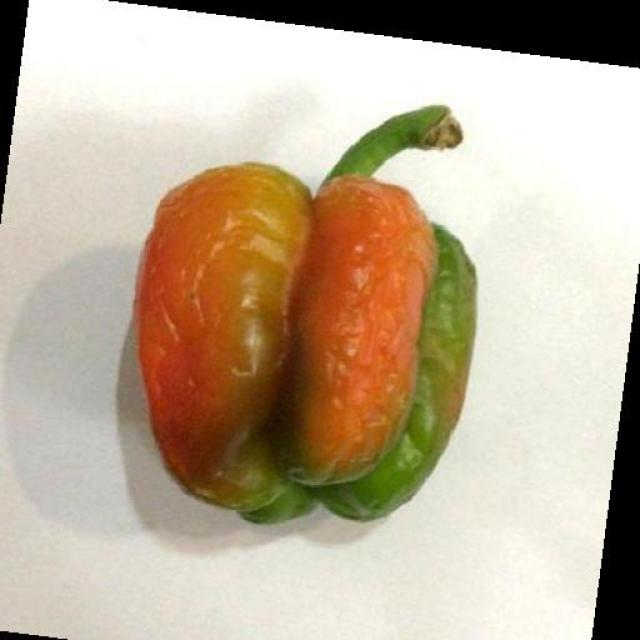Stale_Capsicum: (142, 102, 492, 535)
